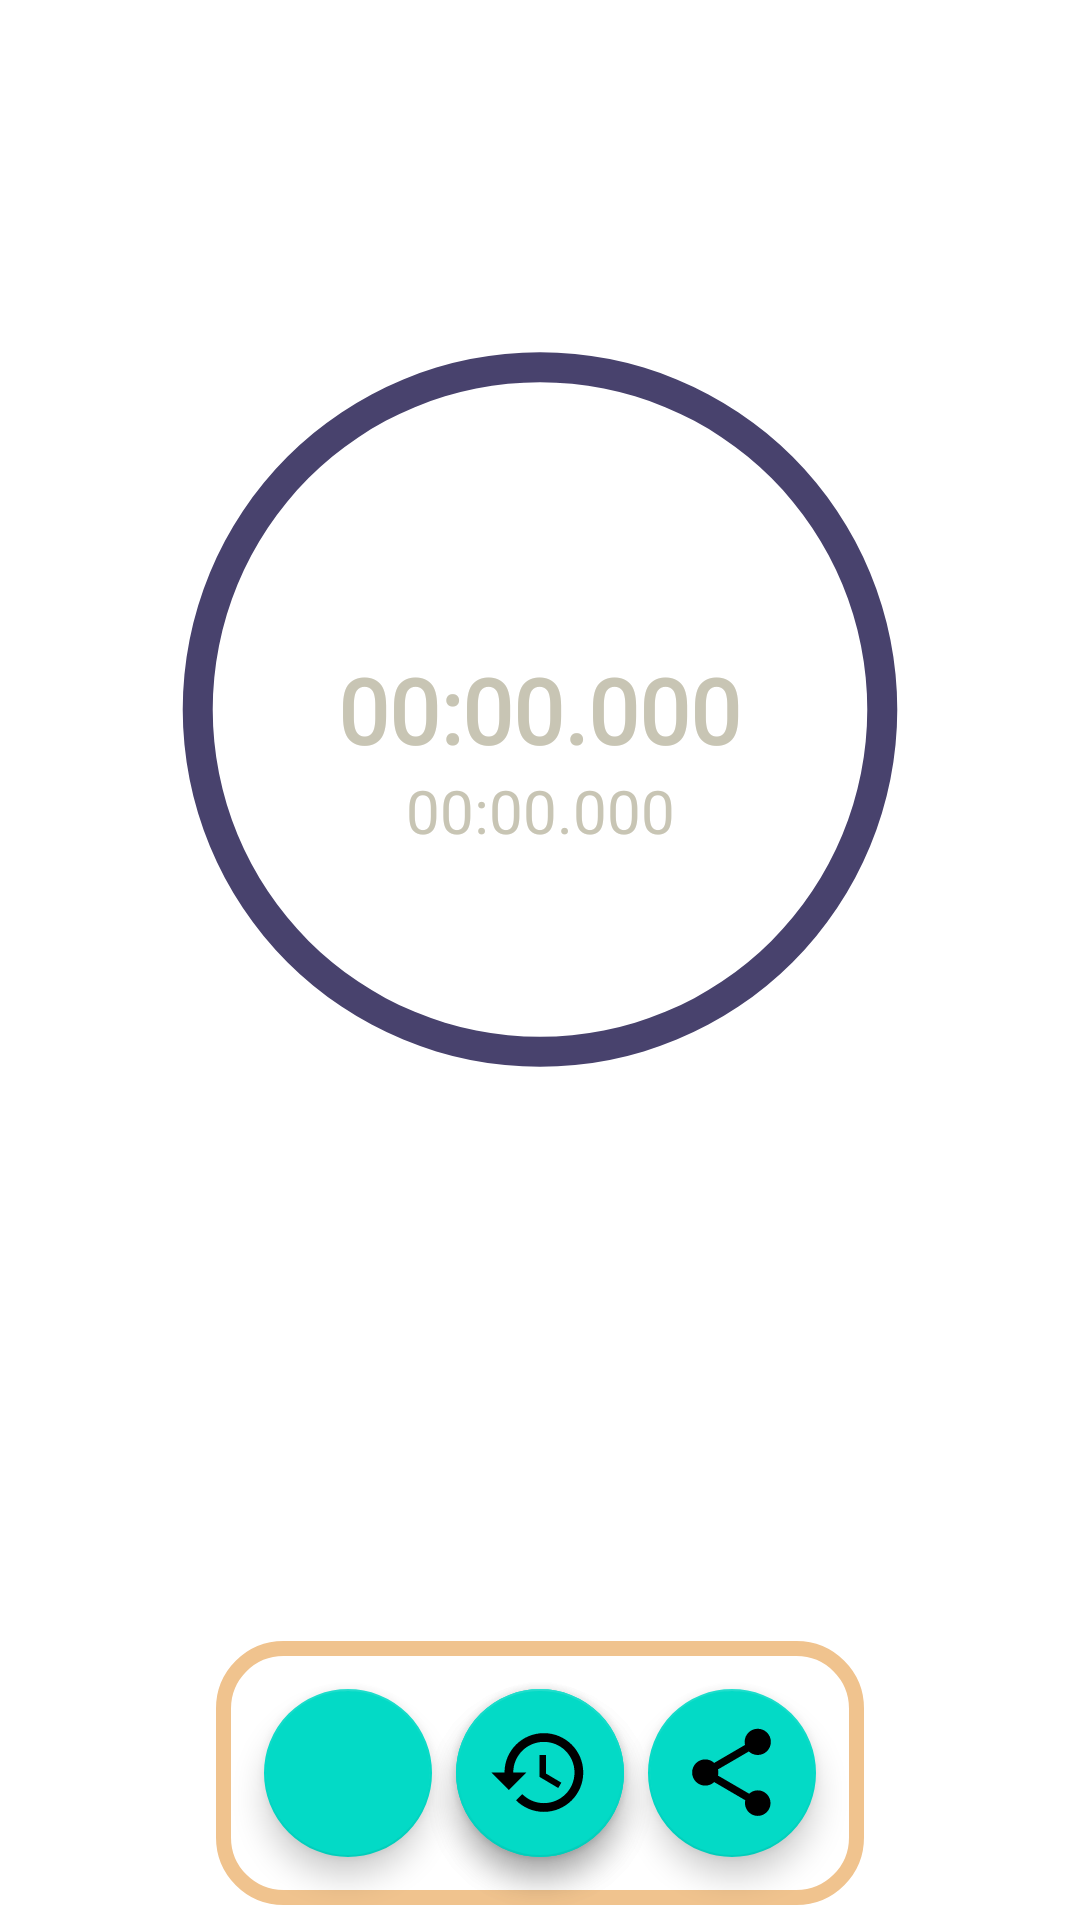

Icons on this 1080w x 1920h Android screen, each with its box as (x1, y1, x2, y2):
Share: (648, 1689, 816, 1857)
